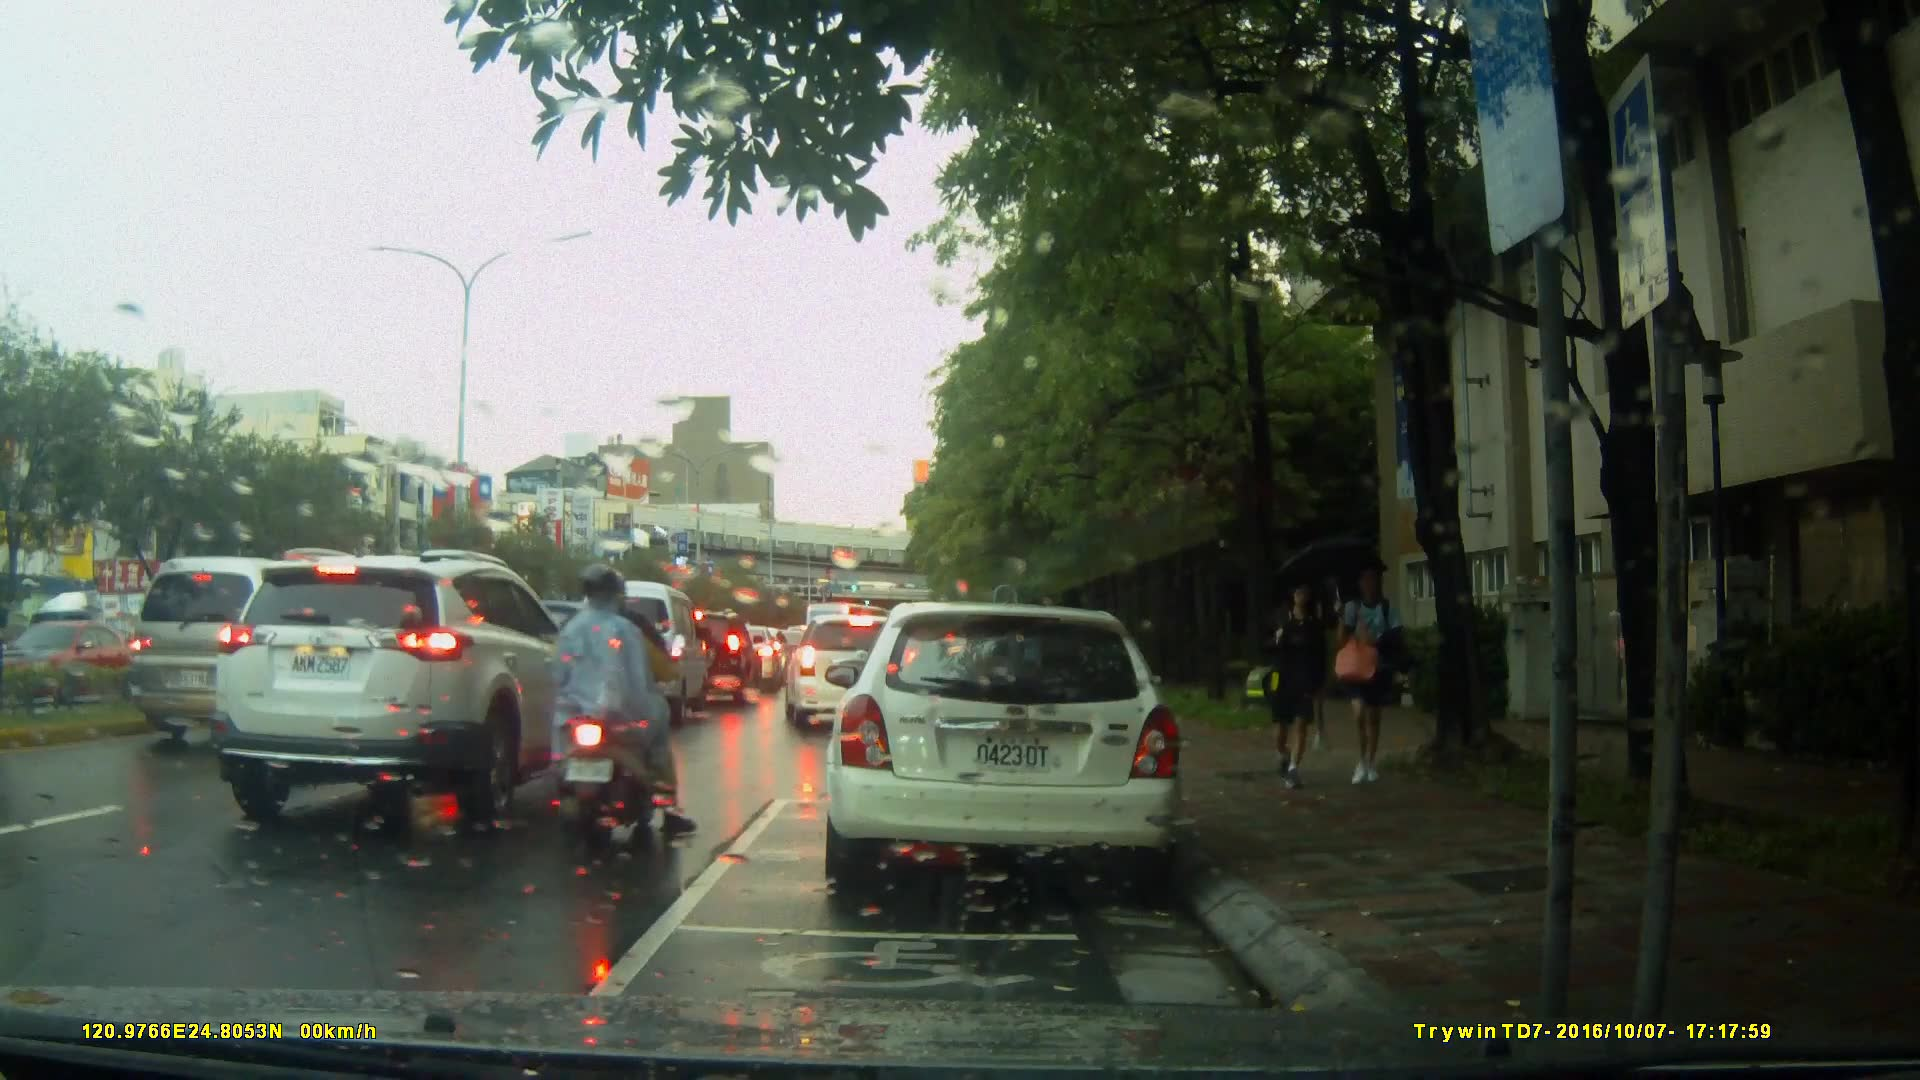pedestrian: (1255, 570, 1338, 796), (1321, 564, 1398, 793)
rider: (544, 571, 696, 847)
vehicle: (815, 593, 1204, 909), (211, 550, 612, 825), (127, 553, 329, 732), (461, 599, 666, 758), (569, 580, 711, 729), (784, 612, 924, 730), (1, 618, 138, 709), (655, 610, 759, 702)
